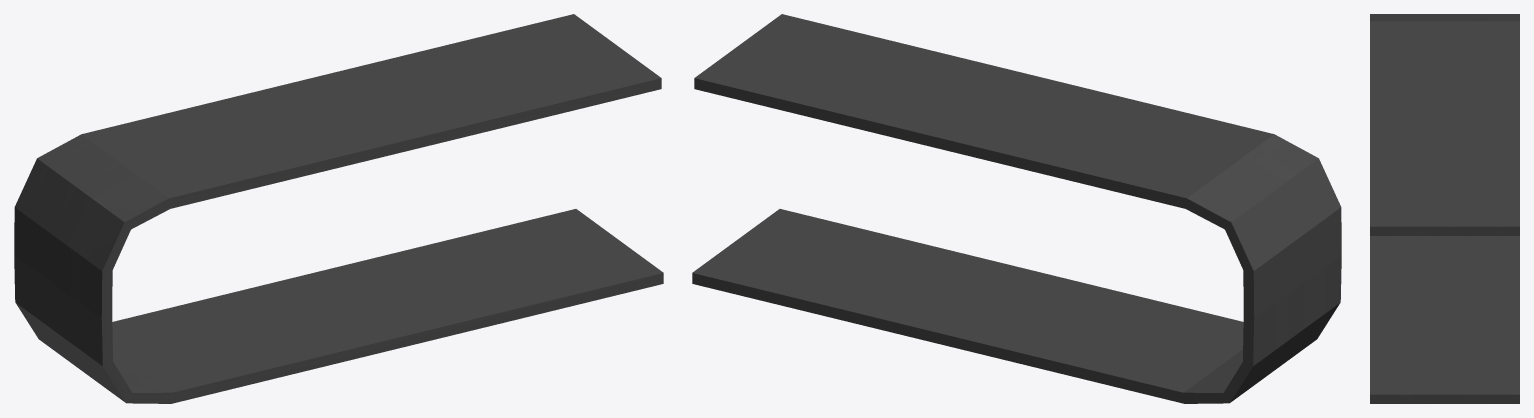
Rendered from Table_05_02.fbx.
3 renders of one model, left to right at view 1: azimuth 30°, elevation 25°; view 2: azimuth 150°, elevation 25°; view 3: azimuth 270°, elevation 25°, orthographic. The views are drawn at different scales.
Visible parts, largest first — view 1: Table_05_02; view 2: Table_05_02; view 3: Table_05_02.
Part boxes in pixels (x1,y1,x2,y2): Table_05_02: [14, 14, 663, 403]; Table_05_02: [692, 14, 1341, 403]; Table_05_02: [1370, 14, 1519, 403].
Bounding box in the file's own units: 2.29 × 0.8035 × 0.6187.
